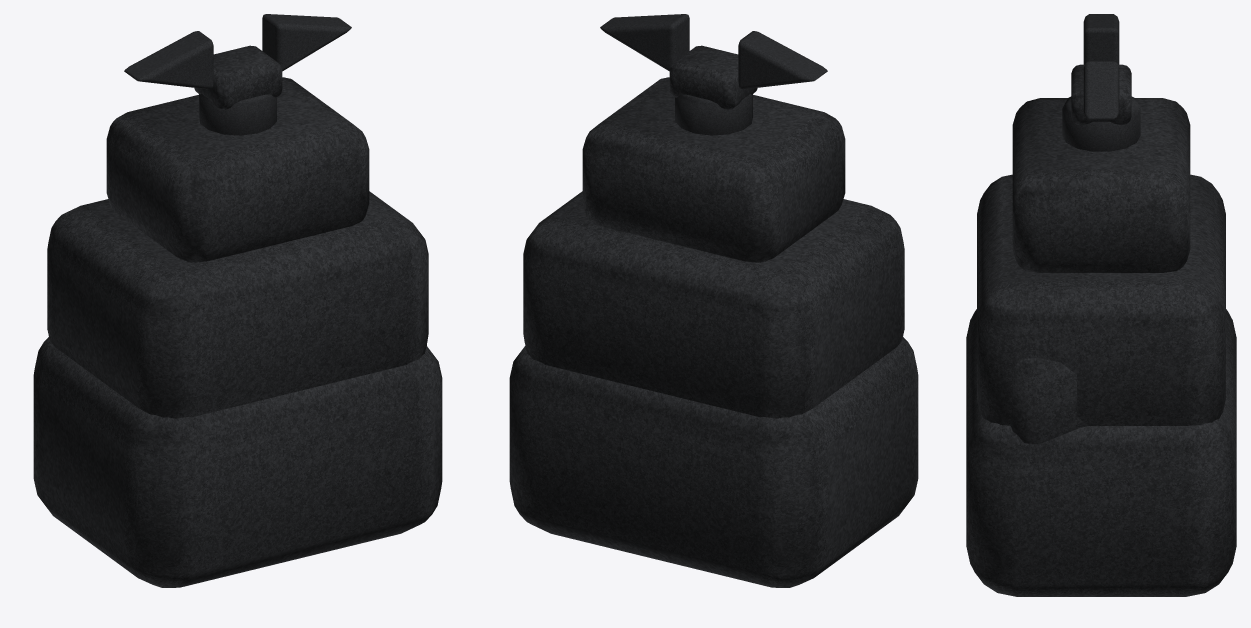
Rendered from asset_080_trash_bag.glb.
3 renders of one model, left to right at view 1: azimuth 30°, elevation 25°; view 2: azimuth 150°, elevation 25°; view 3: azimuth 270°, elevation 25°, orthographic.
Parts seen in each view (by area): view 1: MESH_BagBase, MESH_BagBelly, MESH_BagShoulder, MESH_BagKnot, MESH_BagEarL, MESH_BagEarR, MESH_BagNeck; view 2: MESH_BagBase, MESH_BagBelly, MESH_BagShoulder, MESH_BagKnot, MESH_BagEarL, MESH_BagEarR, MESH_BagNeck; view 3: MESH_BagBase, MESH_BagBelly, MESH_BagShoulder, MESH_BagCrinkle, MESH_BagNeck, MESH_BagEarR, MESH_BagEarL, MESH_BagKnot.
Boxes of the visible parts, left/top/right/bottom form: MESH_BagBase: left=33, top=337, right=442, bottom=587; MESH_BagBelly: left=47, top=191, right=428, bottom=418; MESH_BagShoulder: left=106, top=77, right=369, bottom=262; MESH_BagKnot: left=194, top=45, right=282, bottom=109; MESH_BagEarL: left=124, top=31, right=213, bottom=89; MESH_BagEarR: left=262, top=14, right=351, bottom=71; MESH_BagNeck: left=199, top=94, right=276, bottom=135; MESH_BagBase: left=509, top=337, right=918, bottom=587; MESH_BagBelly: left=523, top=191, right=904, bottom=418; MESH_BagShoulder: left=582, top=77, right=845, bottom=262; MESH_BagKnot: left=669, top=45, right=757, bottom=109; MESH_BagEarL: left=738, top=31, right=827, bottom=89; MESH_BagEarR: left=600, top=14, right=689, bottom=71; MESH_BagNeck: left=675, top=94, right=752, bottom=135; MESH_BagBase: left=966, top=309, right=1236, bottom=596; MESH_BagBelly: left=977, top=174, right=1225, bottom=425; MESH_BagShoulder: left=1012, top=98, right=1190, bottom=272; MESH_BagCrinkle: left=1010, top=357, right=1087, bottom=444; MESH_BagNeck: left=1062, top=96, right=1140, bottom=151; MESH_BagEarR: left=1083, top=61, right=1119, bottom=119; MESH_BagEarL: left=1083, top=14, right=1119, bottom=64; MESH_BagKnot: left=1071, top=64, right=1131, bottom=125.
Size of the model in its own units: 0.5 by 0.7658 by 0.38.
2 materials, 1 textured.
